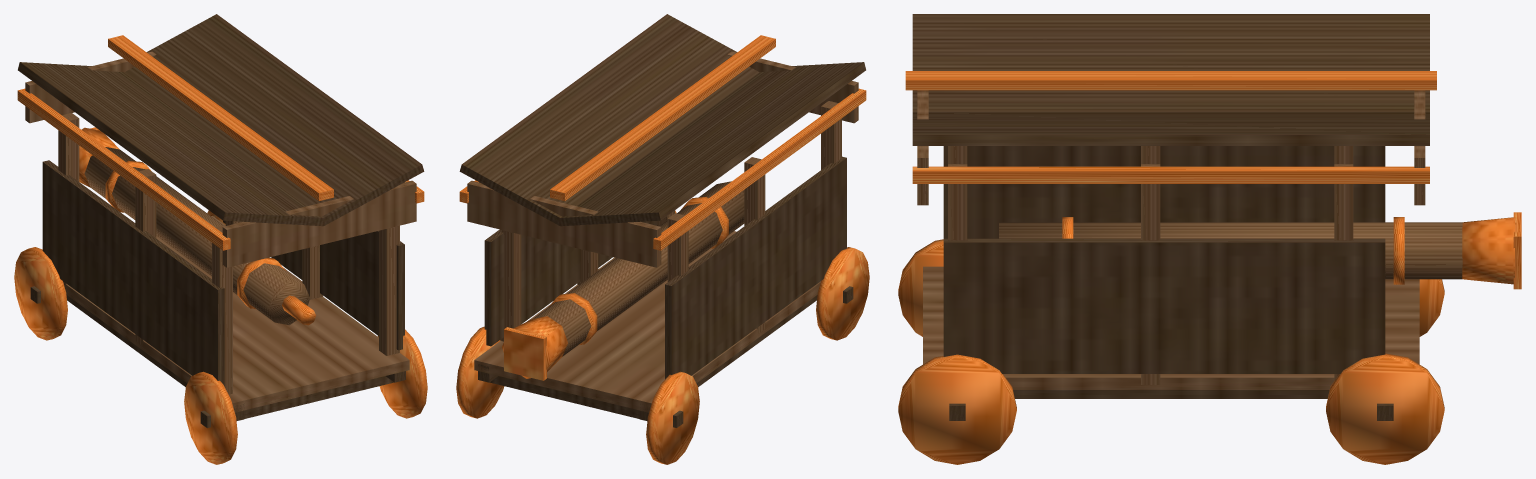
The model's file is ae_ram_bronze_lod1.glb.
3 renders of one model, left to right at view 1: azimuth 30°, elevation 25°; view 2: azimuth 150°, elevation 25°; view 3: azimuth 270°, elevation 25°, orthographic. The views are drawn at different scales.
Parts seen in each view (by area): view 1: roofR, wallL, roofL, floor, gable_r, log_core, wallR, ridge, eaveL, wheel_RL_tyre, wheel_FL_tyre, post_1_0 (+12 smaller); view 2: roofR, wallL, roofL, floor, log_core, gable_f, wallR, ridge, eaveL, wheel_FL_tyre, wheel_RL_tyre, wheel_FR_tyre (+12 smaller); view 3: wallR, roofL, wallL, roofR, ridge, wheel_RR_tyre, wheel_FR_tyre, log_core, floor, eaveR, ram_head, runnerR (+8 smaller).
Part boxes in pixels (x1,y1,x2,y2): roofR: (125, 14, 424, 225); wallL: (42, 160, 224, 386); roofL: (18, 62, 325, 226); floor: (65, 215, 409, 412); gable_r: (222, 180, 416, 267); log_core: (84, 147, 310, 325); wallR: (223, 220, 404, 350); ridge: (108, 35, 333, 200); eaveL: (17, 88, 230, 250); wheel_RL_tyre: (184, 371, 237, 464); wheel_FL_tyre: (14, 247, 67, 340); post_1_0: (379, 225, 399, 355); roofR: (459, 14, 758, 225); wallL: (665, 156, 846, 379); roofL: (558, 62, 865, 226); floor: (474, 231, 820, 412); log_core: (533, 181, 744, 356); gable_f: (467, 180, 661, 267); wallR: (484, 221, 657, 346); ridge: (550, 35, 775, 200); eaveL: (653, 88, 866, 250); wheel_FL_tyre: (646, 371, 699, 464); wheel_RL_tyre: (816, 247, 869, 340); wheel_FR_tyre: (456, 326, 504, 418); wallR: (943, 238, 1385, 373); roofL: (912, 14, 1429, 111); wallL: (943, 146, 1385, 238); roofR: (912, 111, 1429, 145); ridge: (905, 71, 1436, 90); wheel_RR_tyre: (898, 354, 1016, 464); wheel_FR_tyre: (1326, 353, 1444, 464); log_core: (999, 222, 1462, 279); floor: (923, 266, 1419, 389); eaveR: (912, 166, 1429, 183); ram_head: (1462, 217, 1514, 284); runnerR: (1013, 390, 1329, 398).
Bounding box in the file's own units: 2.15 × 2.64 × 4.52.
Materials: 2 (2 with a texture image).
